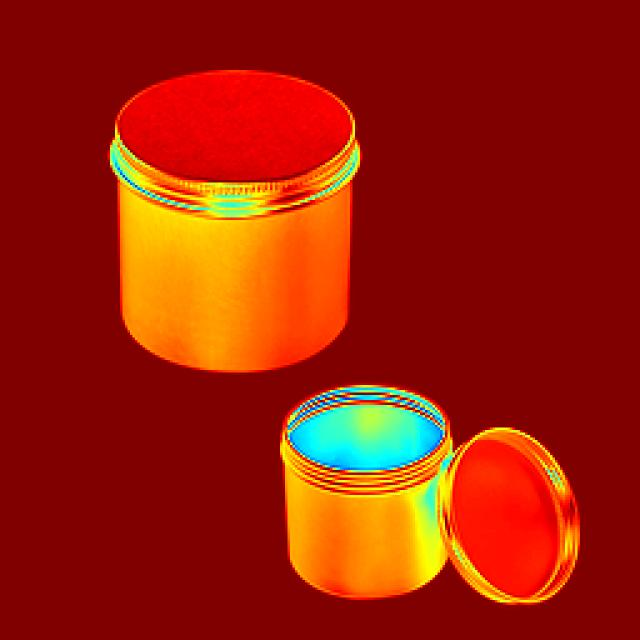Aluminium Food Cans: (98, 50, 396, 383), (275, 379, 557, 610)
